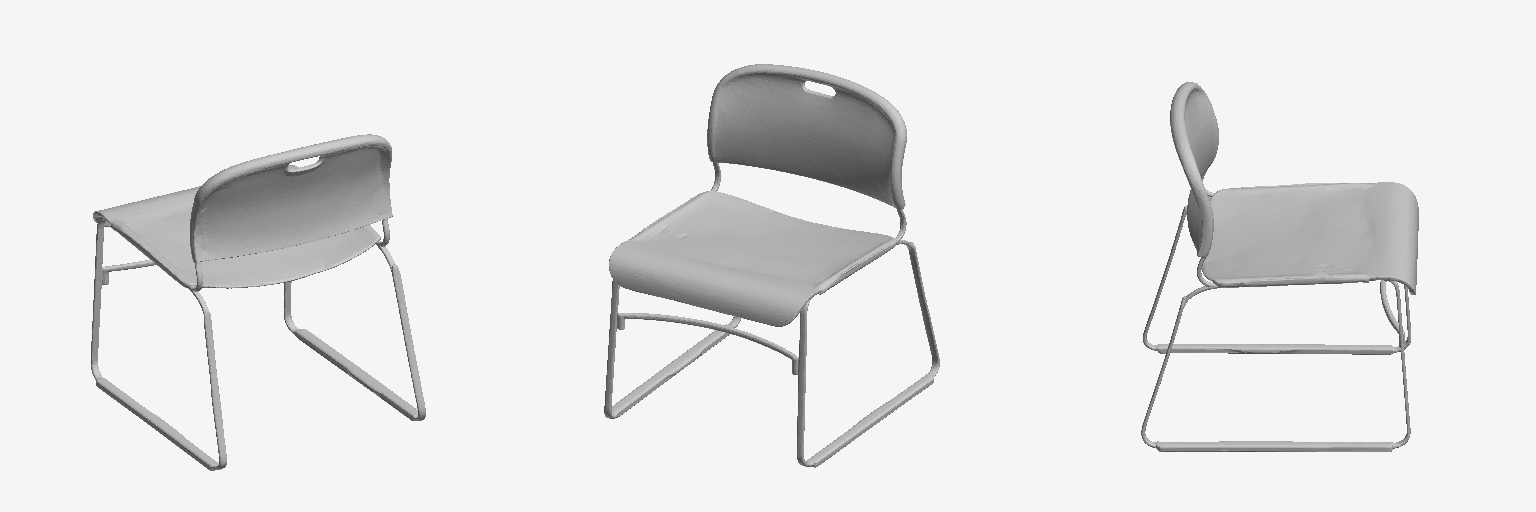
The model's file is silla.obj.
The picture shows the model from 3 angles: view 1: azimuth 30°, elevation 25°; view 2: azimuth 150°, elevation 25°; view 3: azimuth 270°, elevation 25°; orthographic projection.
Parts seen in each view (by area): view 1: Silla; view 2: Silla; view 3: Silla.
Boxes of the visible parts, x1=… form: Silla: x1=91, y1=134, x2=425, y2=470; Silla: x1=604, y1=64, x2=939, y2=467; Silla: x1=1141, y1=82, x2=1418, y2=451.
Size of the model in its own units: 1.52 by 2 by 1.72.